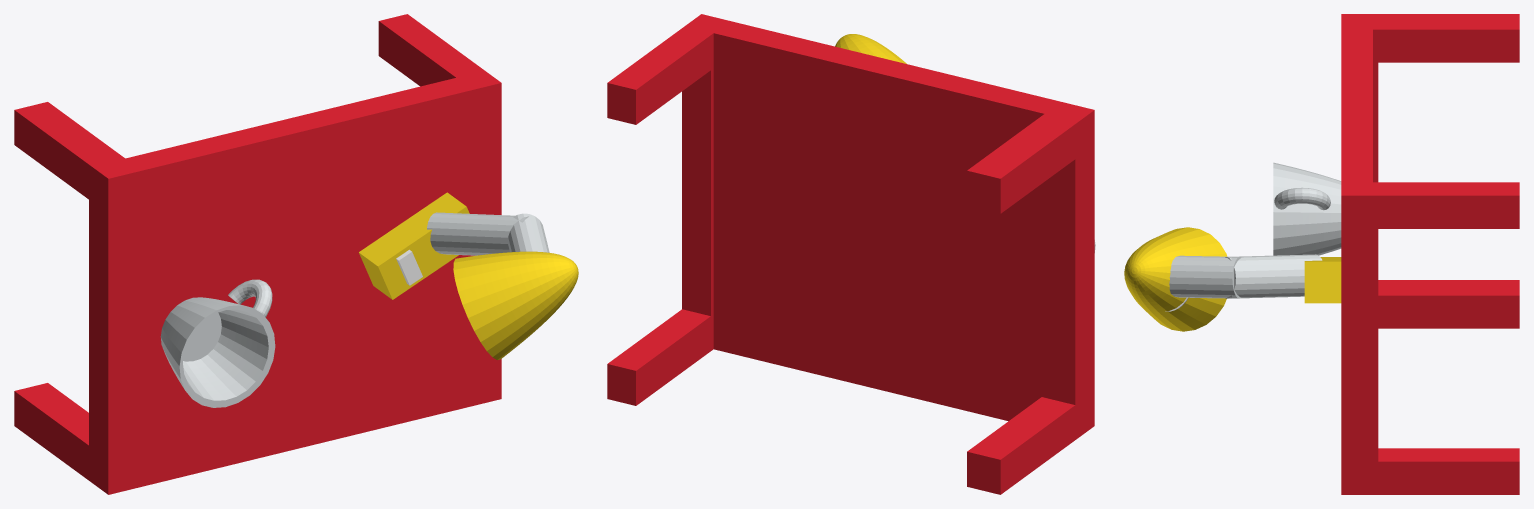
File: tinker.obj
The picture shows the model from 3 angles, left to right: view 1: azimuth 30°, elevation 25°; view 2: azimuth 150°, elevation 25°; view 3: azimuth 270°, elevation 25°; orthographic projection. The views are drawn at different scales.
Parts seen in each view (by area): view 1: group_0_15277357, group_0_14541540, group_0_16768282; view 2: group_0_15277357, group_0_16768282; view 3: group_0_15277357, group_0_14541540, group_0_16768282.
Boxes of the visible parts, bbox=[...] form: group_0_15277357: bbox=[14, 14, 501, 494]; group_0_14541540: bbox=[160, 212, 549, 407]; group_0_16768282: bbox=[359, 192, 578, 359]; group_0_15277357: bbox=[607, 14, 1094, 494]; group_0_16768282: bbox=[835, 34, 906, 63]; group_0_15277357: bbox=[1341, 14, 1519, 494]; group_0_14541540: bbox=[1169, 162, 1341, 298]; group_0_16768282: bbox=[1124, 227, 1341, 331].
Bounding box in the file's own units: 82 × 63 × 75.43.
